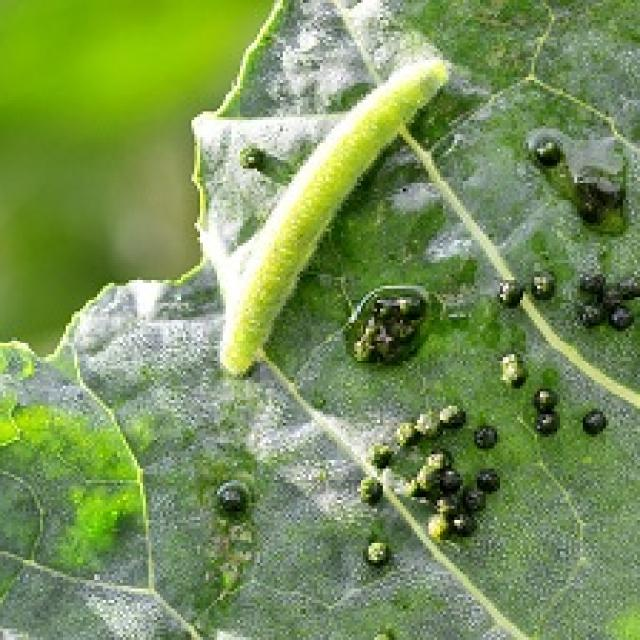Cabbage-worm: (193, 41, 450, 379)
